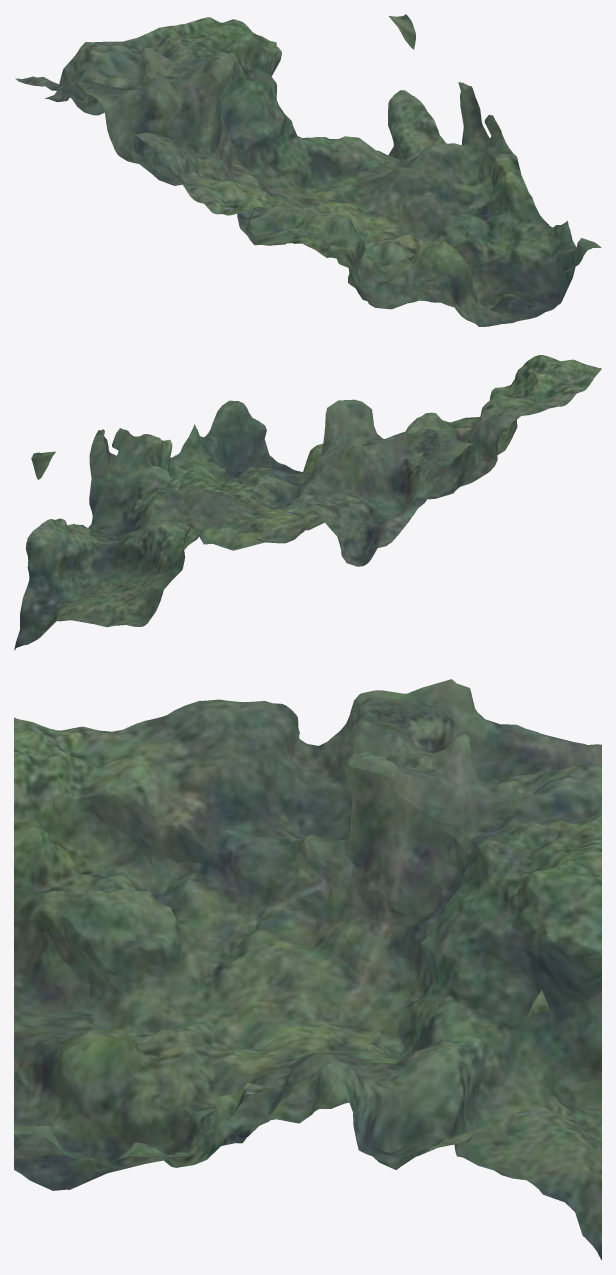
The model's file is Tile_+005_+006_L22_00023100.glb.
3 renders of one model, top to bottom at view 1: azimuth 30°, elevation 25°; view 2: azimuth 150°, elevation 25°; view 3: azimuth 270°, elevation 25°, orthographic. The views are drawn at different scales.
Parts seen in each view (by area): view 1: rtc; view 2: rtc; view 3: rtc.
Part boxes in pixels (x1,y1,x2,y2): rtc: [15, 14, 601, 326]; rtc: [14, 355, 601, 650]; rtc: [14, 679, 601, 1260].
Bounding box in the file's own units: 12.56 × 7.99 × 12.56.
Materials: 1 (1 with a texture image).
